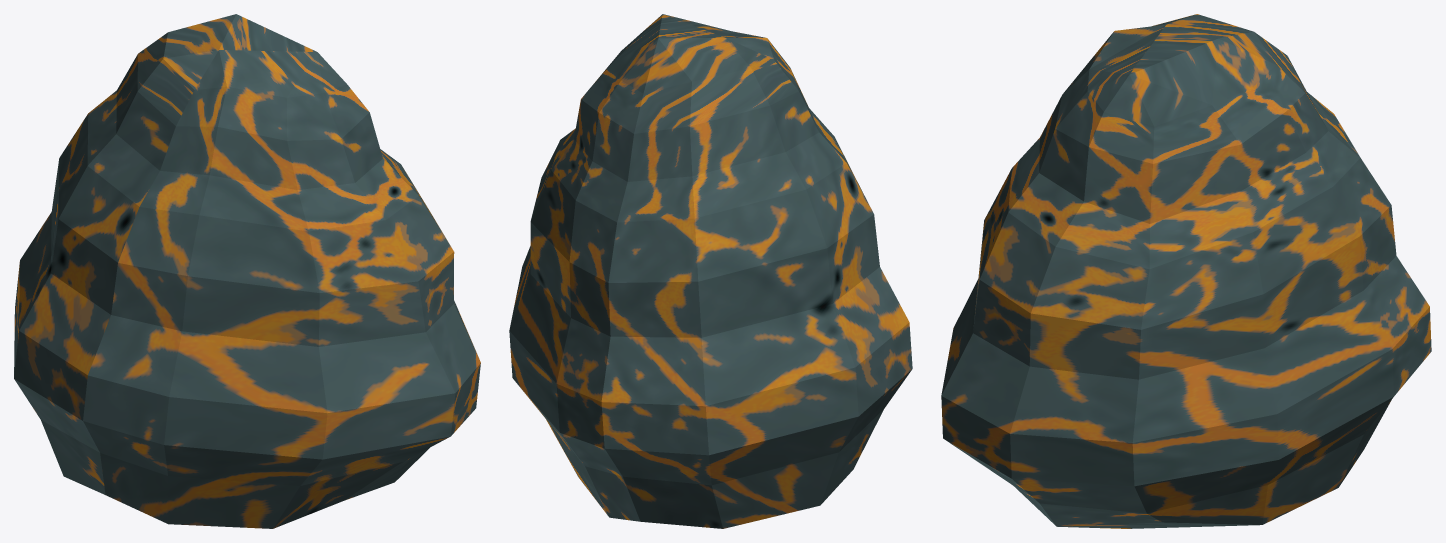
Rendered from GoldenCriiterEgg.fbx.
3 renders of one model, left to right at view 1: azimuth 30°, elevation 25°; view 2: azimuth 150°, elevation 25°; view 3: azimuth 270°, elevation 25°, orthographic. The views are drawn at different scales.
Parts seen in each view (by area): view 1: GoldenRockCritterEgg; view 2: GoldenRockCritterEgg; view 3: GoldenRockCritterEgg.
Part boxes in pixels (bbox=[...]): GoldenRockCritterEgg: bbox=[14, 14, 480, 528]; GoldenRockCritterEgg: bbox=[509, 14, 912, 528]; GoldenRockCritterEgg: bbox=[941, 14, 1431, 528].
Bounding box in the file's own units: 24.47 × 27.73 × 25.67.
